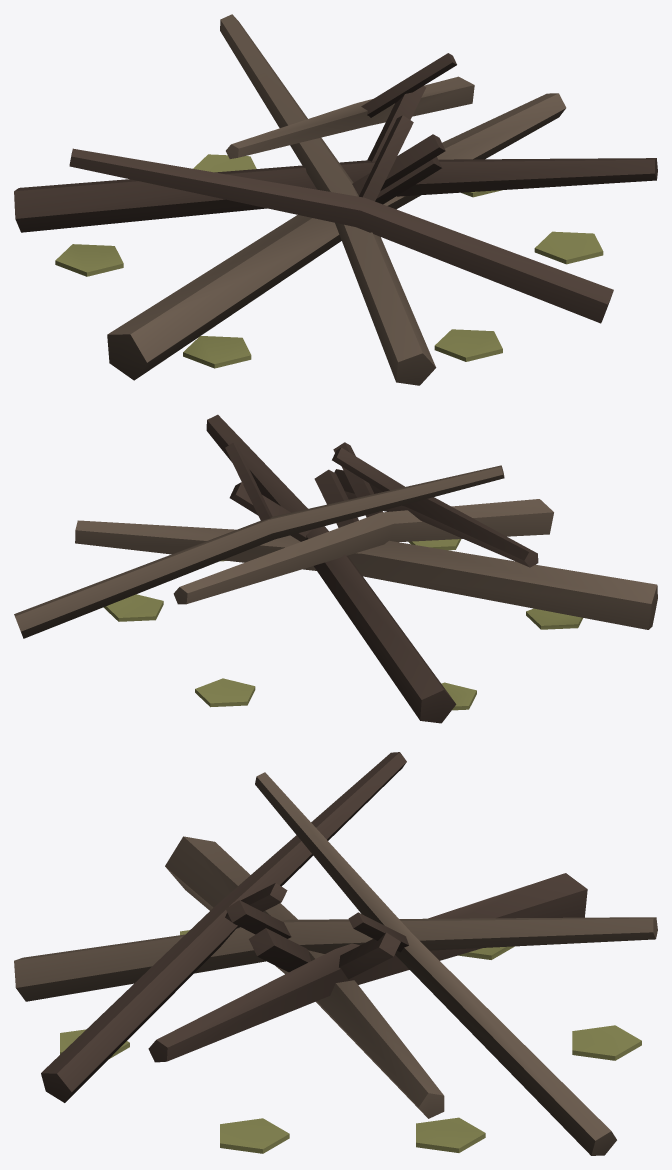
The model's file is branches_fallen.glb.
3 views of the same model, one above another, from view 1: azimuth 30°, elevation 25°; view 2: azimuth 150°, elevation 25°; view 3: azimuth 270°, elevation 25° (orthographic). The views are drawn at different scales.
Parts seen in each view (by area): view 1: branches_fallen; view 2: branches_fallen; view 3: branches_fallen.
Boxes of the visible parts, x1,y1,x2,y2 form: branches_fallen: (14,14,657,385); branches_fallen: (14,414,657,723); branches_fallen: (14,752,657,1155).
Size of the model in its own units: 0.7976 by 0.2491 by 0.7521.
